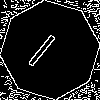I: (25, 25, 64, 69)
